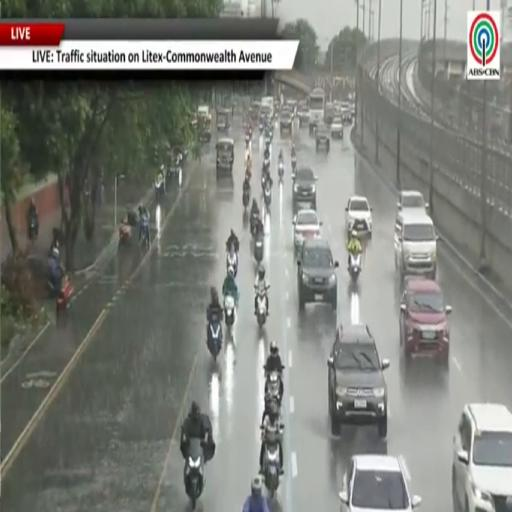bus: (309, 88, 324, 133)
car: (328, 325, 389, 438), (452, 404, 511, 511), (339, 455, 421, 511), (400, 277, 452, 365), (297, 238, 338, 311), (394, 211, 438, 279), (292, 166, 317, 214), (293, 210, 321, 250), (345, 196, 372, 235), (396, 190, 428, 217), (315, 123, 330, 152), (280, 110, 292, 136), (298, 103, 309, 126), (331, 117, 343, 138), (340, 103, 352, 123), (286, 100, 297, 119), (349, 102, 355, 121)
motorcycle: (184, 439, 204, 509), (263, 435, 283, 498), (48, 274, 74, 314), (56, 275, 74, 313), (207, 318, 222, 360), (119, 212, 137, 246), (265, 372, 282, 406), (255, 286, 269, 327), (224, 295, 235, 329), (349, 253, 361, 282), (227, 247, 238, 277), (119, 222, 131, 246), (254, 236, 263, 263), (29, 215, 38, 241), (140, 223, 149, 249), (155, 175, 164, 200), (250, 213, 258, 236), (264, 184, 271, 207), (242, 189, 250, 209), (278, 163, 284, 183), (261, 171, 267, 190), (263, 158, 270, 171), (245, 168, 251, 182), (291, 156, 296, 170), (246, 134, 250, 150), (259, 123, 263, 134)
